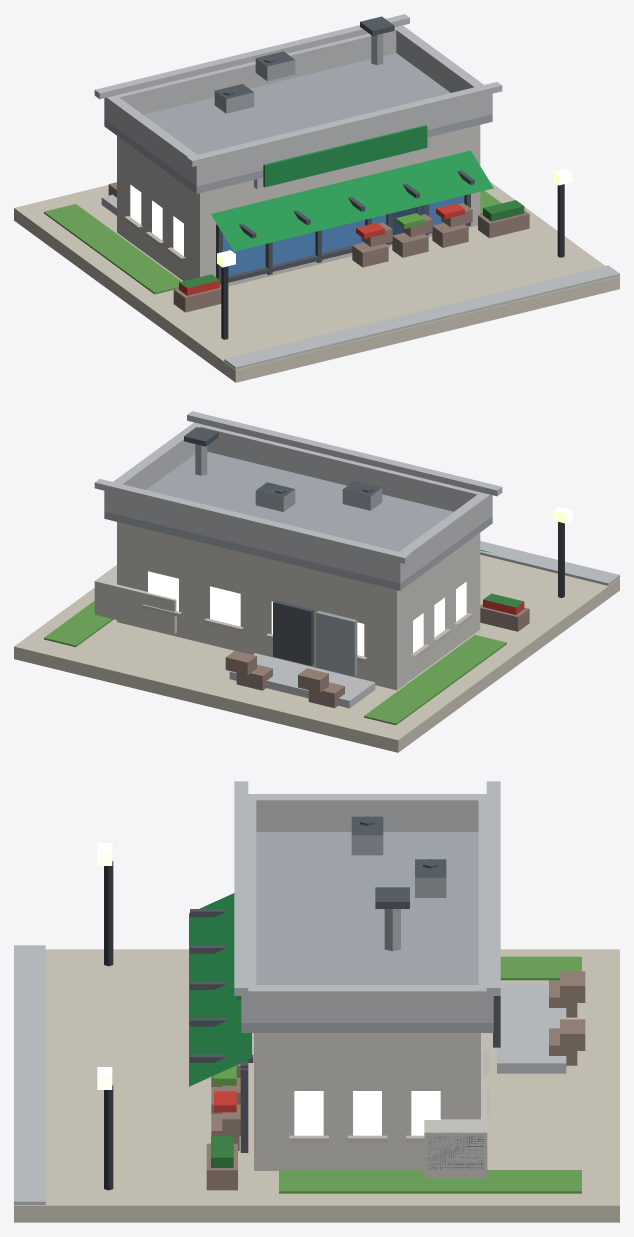
3 views of the same model, one above another, from view 1: azimuth 30°, elevation 25°; view 2: azimuth 150°, elevation 25°; view 3: azimuth 270°, elevation 25° (orthographic). The views are drawn at different scales.
Parts seen in each view (by area): view 1: b13_v2; view 2: b13_v2; view 3: b13_v2.
Part boxes in pixels (x1,y1,x2,y2): b13_v2: [14, 14, 619, 382]; b13_v2: [14, 411, 619, 752]; b13_v2: [14, 781, 619, 1222].
Size of the model in its own units: 0.96 by 0.452 by 0.96.
